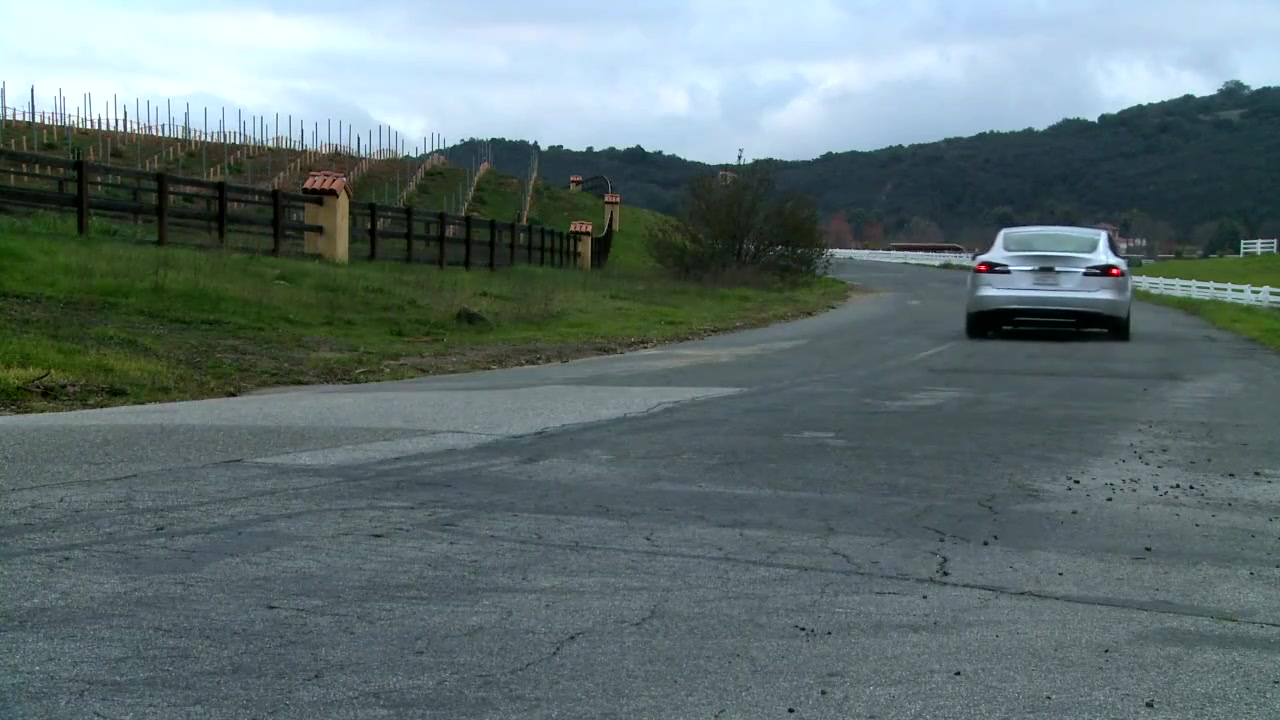car: (967, 222, 1137, 344)
